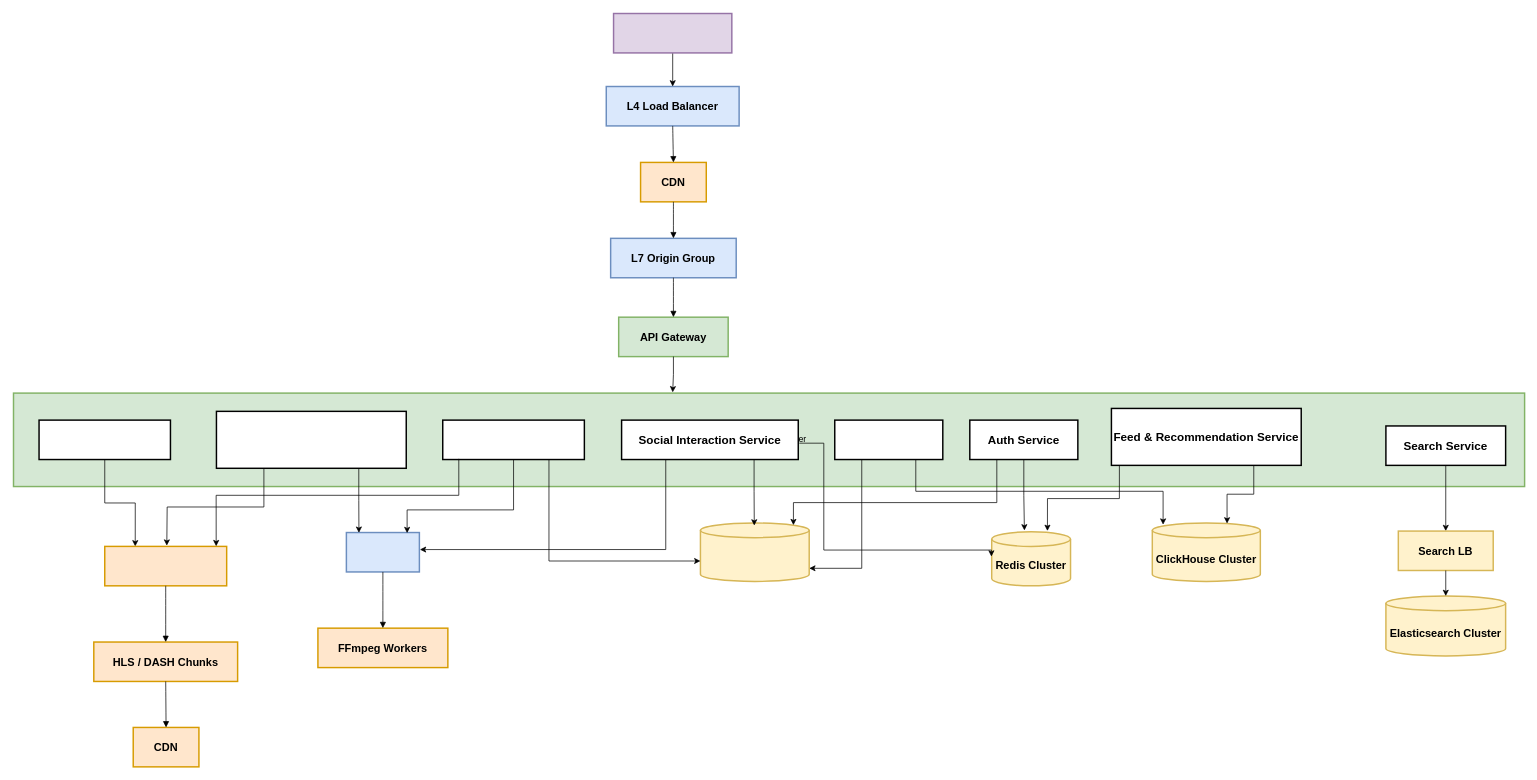
Some shapes in this 1537 by 780 pixel diagram are drawn without their labels. Each missing label, with the box of its shape:
Kafka: (345, 531, 420, 572)
Object Storage: (104, 545, 227, 586)
Playback Service: (38, 419, 171, 460)
PostgreSQL Cluster: (699, 522, 810, 582)
Upload & Processing Service: (215, 410, 407, 469)
User Service: (834, 419, 943, 460)
Video Core Service: (442, 419, 585, 460)
Пользователи: (612, 12, 732, 53)
